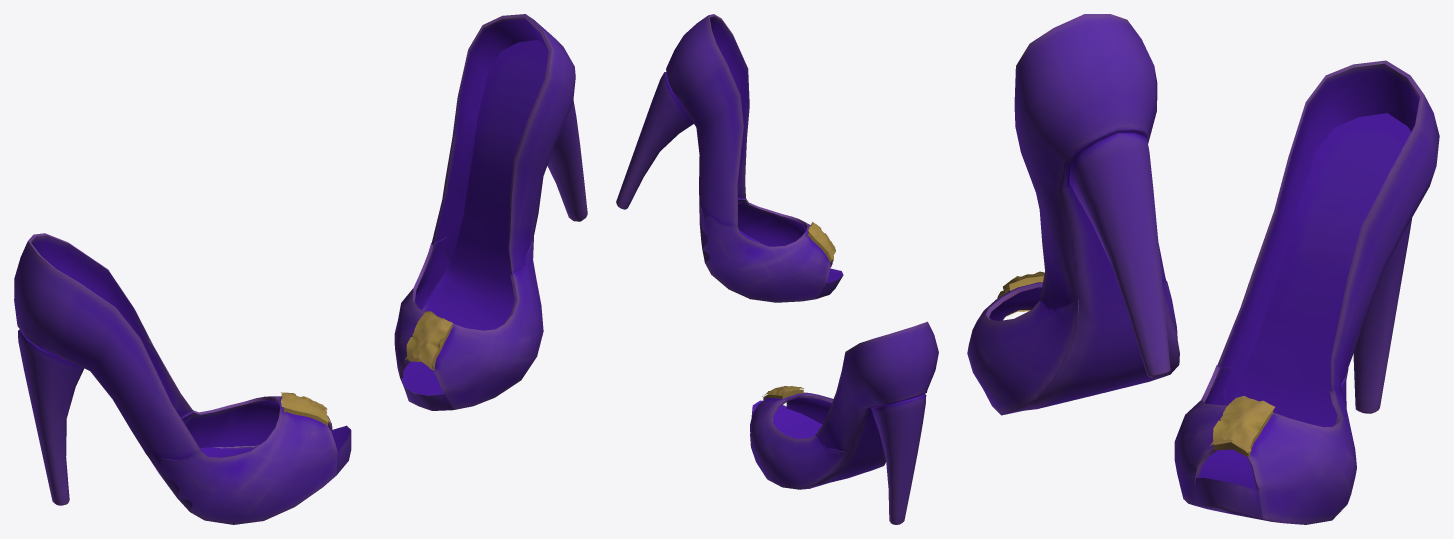
Rendered from BellyA.fbx.
3 views of the same model, side by side, from view 1: azimuth 30°, elevation 25°; view 2: azimuth 150°, elevation 25°; view 3: azimuth 270°, elevation 25° (orthographic). The views are drawn at different scales.
Visible parts, largest first — view 1: BellyA; view 2: BellyA; view 3: BellyA.
Part boxes in pixels (left/top/right/bottom): BellyA: left=14, top=14, right=587, bottom=524; BellyA: left=616, top=14, right=938, bottom=524; BellyA: left=967, top=14, right=1439, bottom=524.
Size of the model in its own units: 41.1 by 39.46 by 27.41.
